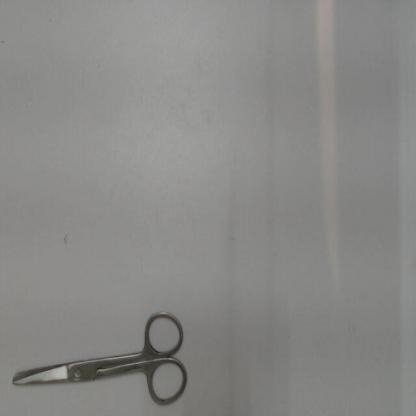Dressing Scissors: (5, 303, 197, 411)
